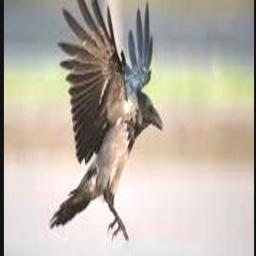Crow: (48, 0, 162, 240)
